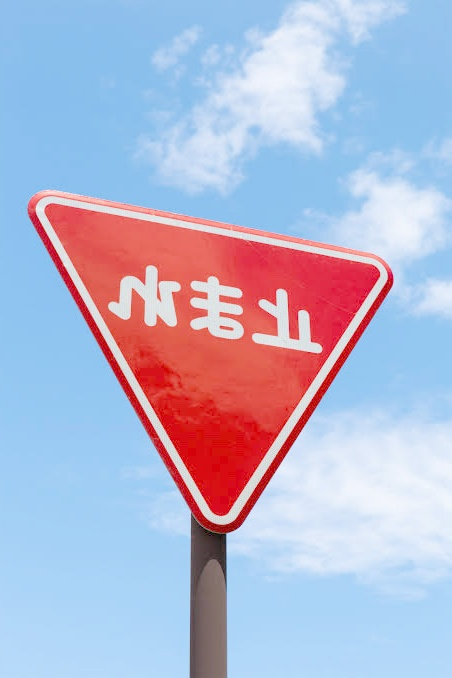Regulatory_sign_triangle: (25, 181, 395, 539)
